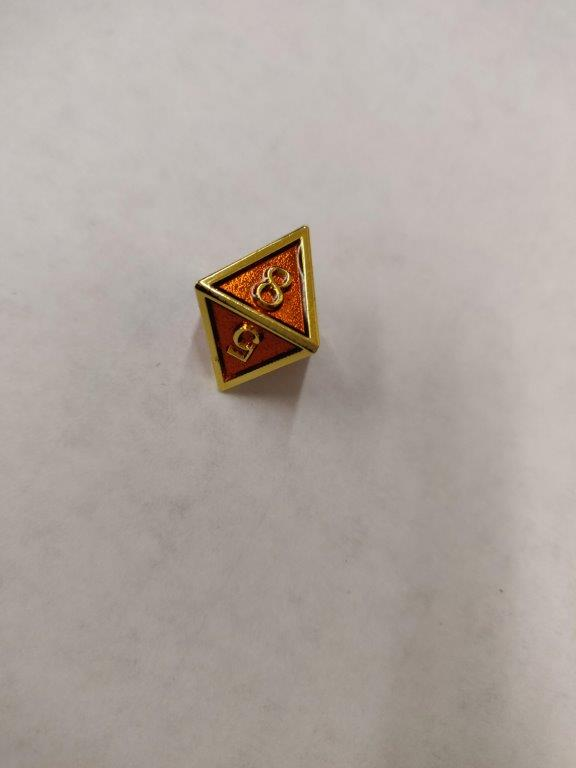d8-8: (189, 221, 321, 396)
